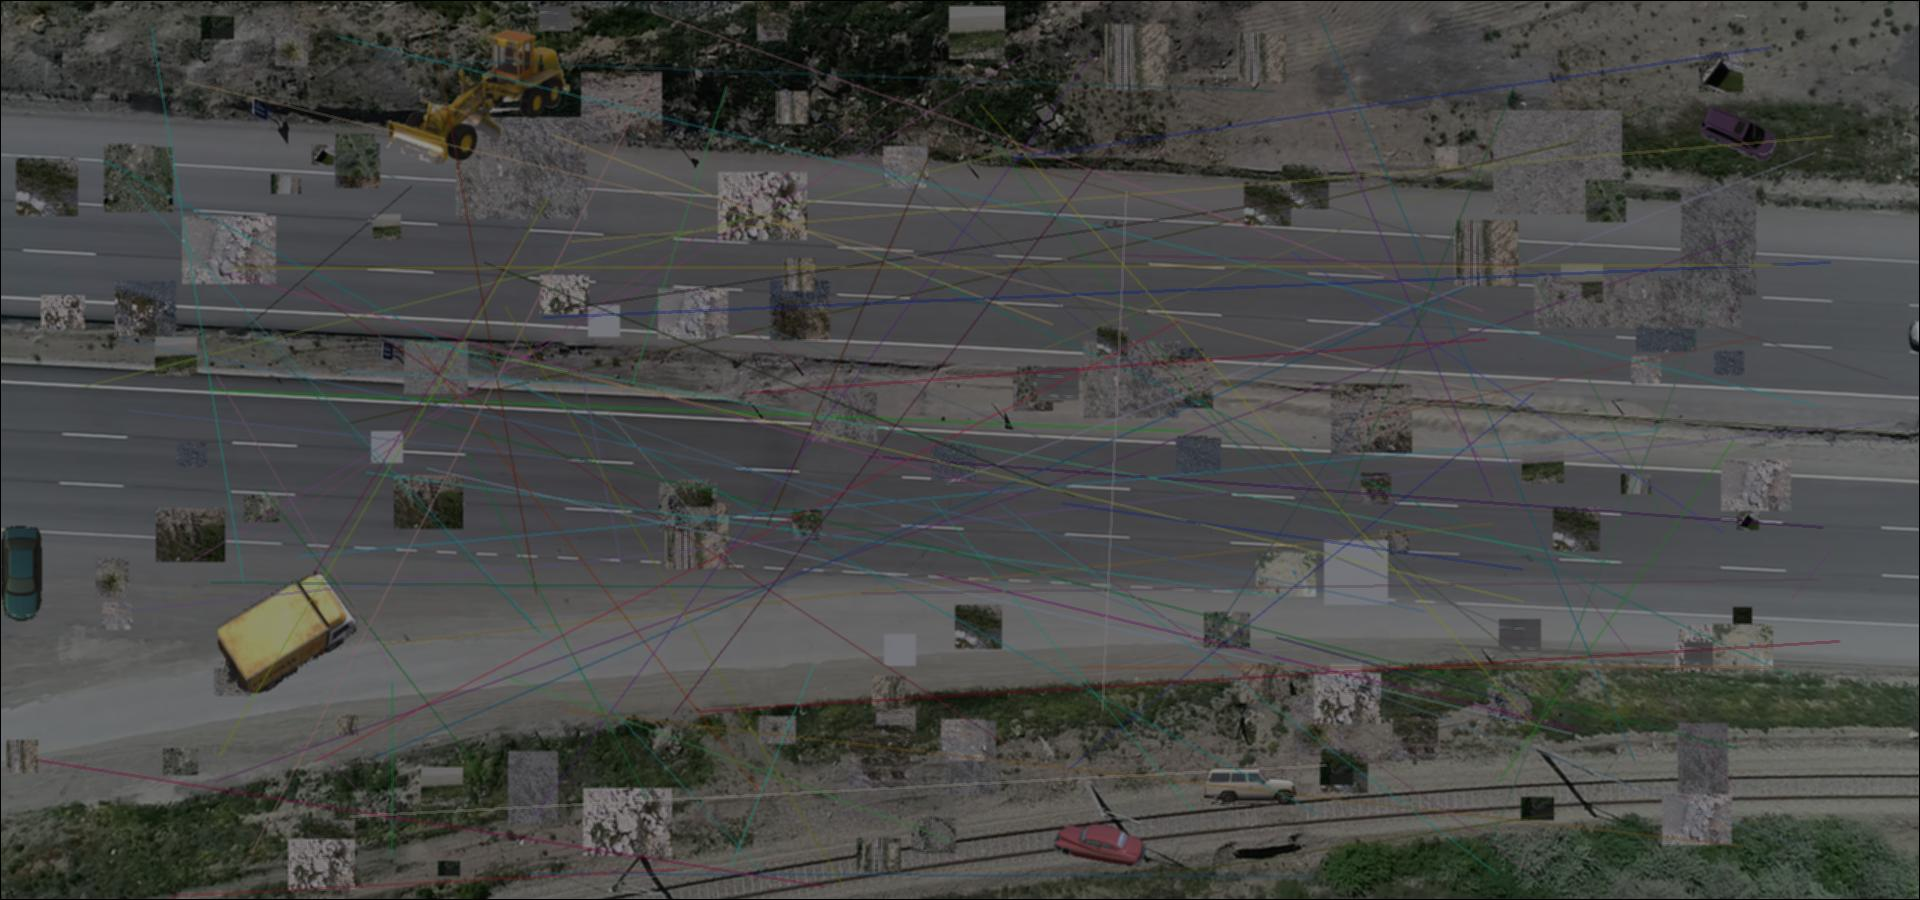arac: (384, 23, 580, 168), (218, 563, 360, 693), (0, 524, 47, 624), (1700, 105, 1778, 163), (1054, 823, 1146, 867), (1201, 767, 1298, 804)
